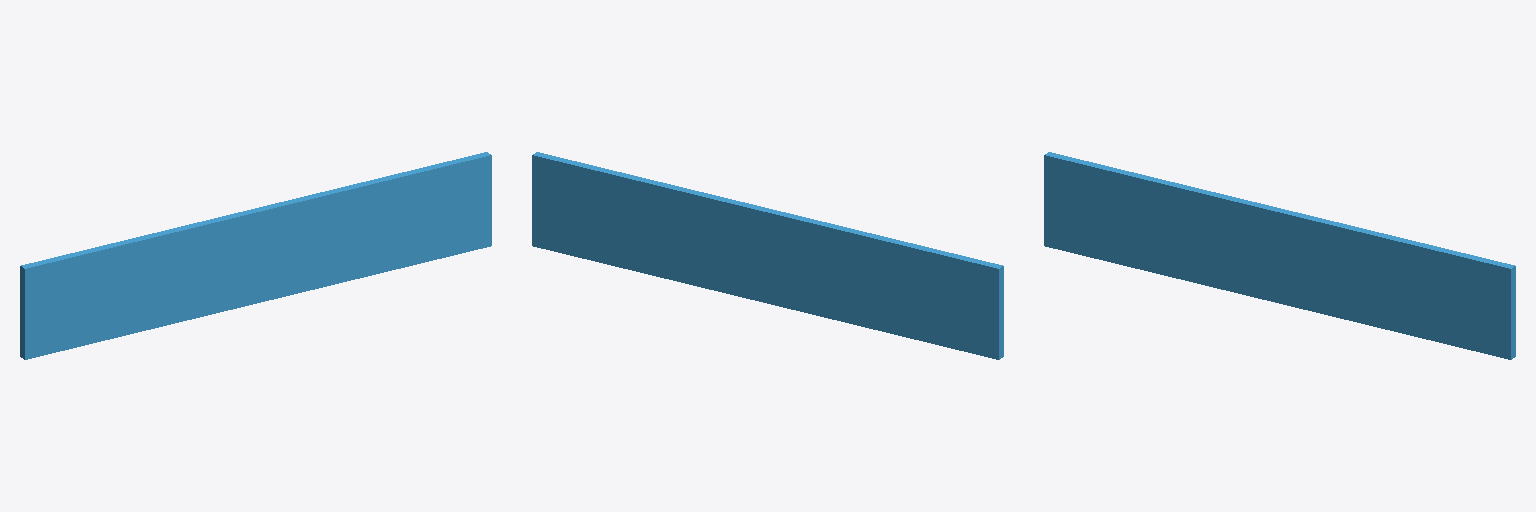
The robot description file, URDF, robot "hemis_80":
<?xml version="1.0" encoding="utf-8"?>    
    <robot name="hemis_80">
        <link name="hemis_80">    
            <fem>
                <origin rpy="0.0 0.0 0.0" xyz="0 0 0" />
                <density value="100" />
                <youngs value="1220"/>
                <poissons value="0.3" />
                <damping value="0.0" />
                <attachDistance value="0.04" />
                <tetmesh filename="[local-path]/sim_data/Custom/Custom_mesh/multi_hemis_1000Pa_2/hemis_80.tet" />
                <scale value="0.5"/>
            </fem>
        </link>

        <link name="fix_frame">
            <visual>
                <origin xyz="0 -10.112041438995773 0.05602071949788617"/>              
                <geometry>
                    <box size="0.3 0.005 0.05602071949788617"/>
                </geometry>
            </visual>
            <collision>
                <origin xyz="0 -0.11204143899577235 0.05602071949788617"/>              
                <geometry>
                    <box size="0.3 0.005 0.05602071949788617"/>
                </geometry>
            </collision>
            <inertial>
                <mass value="500000"/>
                <inertia ixx="0.05" ixy="0.0" ixz="0.0" iyy="0.05" iyz="0.0" izz="0.05"/>
            </inertial>
        </link>
        
        <joint name = "attach" type = "fixed">
            <origin xyz = "0.0 0.0 0.0" rpy = "0 0 0"/>
            <parent link ="hemis_80"/>
            <child link = "fix_frame"/>
        </joint>  




    </robot>
    

--- Facts derived from the render (not from the file) ---
The picture shows the robot from 3 angles, left to right: view 1: azimuth 30°, elevation 25°; view 2: azimuth 150°, elevation 25°; view 3: azimuth 330°, elevation 25°; orthographic projection.
Model hemis_80 with 2 links and 1 joints (1 fixed), rooted at hemis_80, posed all joints at 0.
Links seen in each view (by area): view 1: fix_frame; view 2: fix_frame; view 3: fix_frame.
Link boxes in pixels (x1=…): fix_frame: x1=20, y1=152, x2=491, y2=359; fix_frame: x1=532, y1=152, x2=1003, y2=359; fix_frame: x1=1044, y1=152, x2=1515, y2=359.
Bounding box of the posed robot: 0.3 × 0.005 × 0.056 m (x, y, z).
Geometry: primitives only (box / cylinder / sphere), no mesh files.